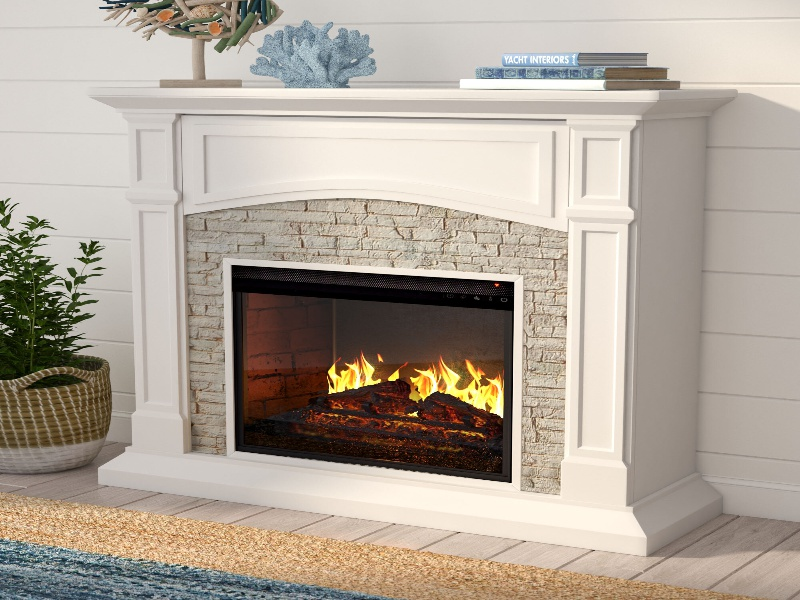fire: (408, 359, 508, 414), (326, 350, 383, 389), (390, 361, 403, 384)
